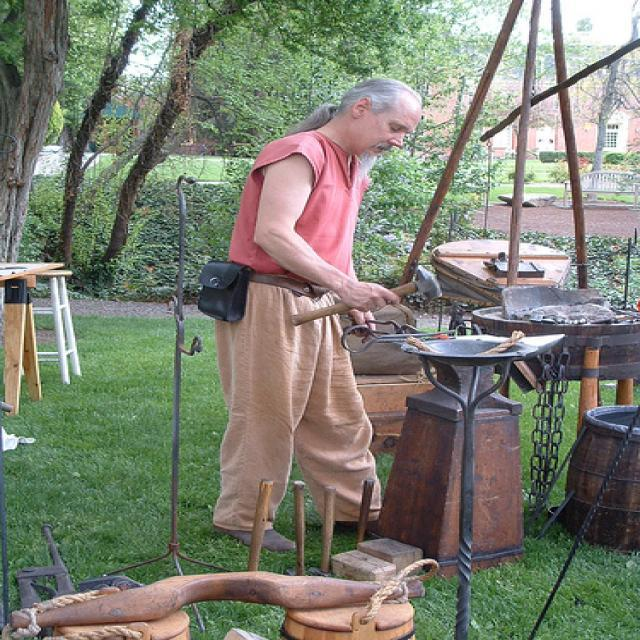hammer: (276, 261, 463, 334)
